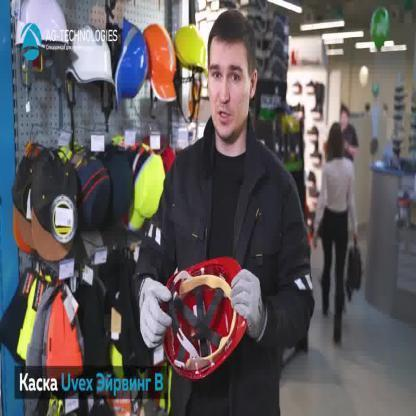gloves: (228, 267, 265, 343), (138, 278, 172, 350)
helmet: (159, 254, 248, 382), (113, 15, 150, 110), (68, 23, 119, 87), (144, 20, 178, 104), (14, 0, 73, 48), (173, 22, 209, 79)
